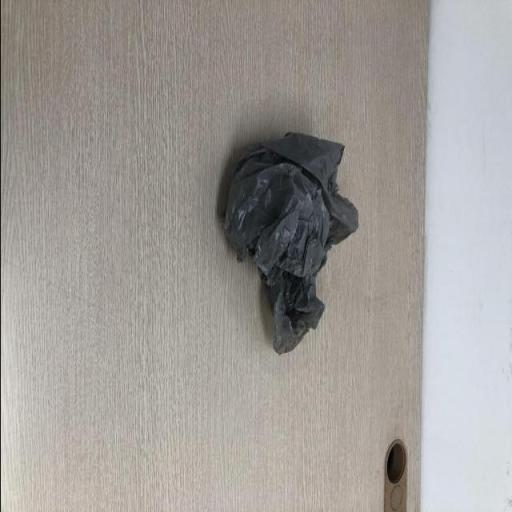plastic-bag: (215, 126, 359, 360)
